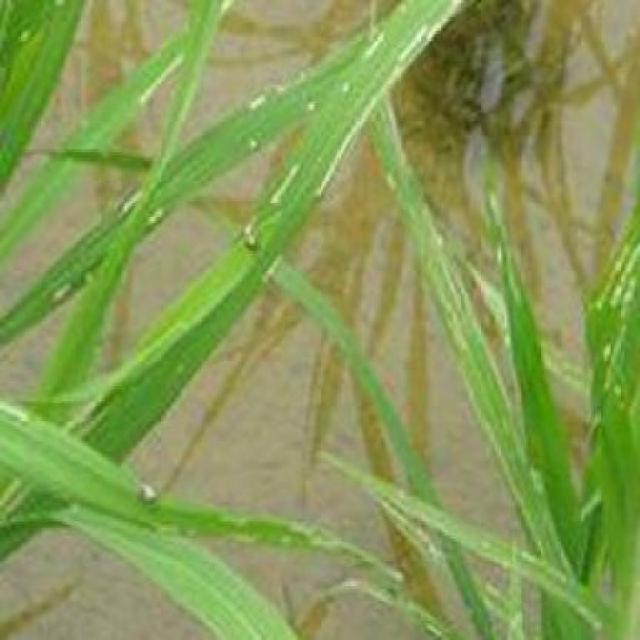rice-bug: (135, 481, 168, 508), (239, 216, 264, 250)
